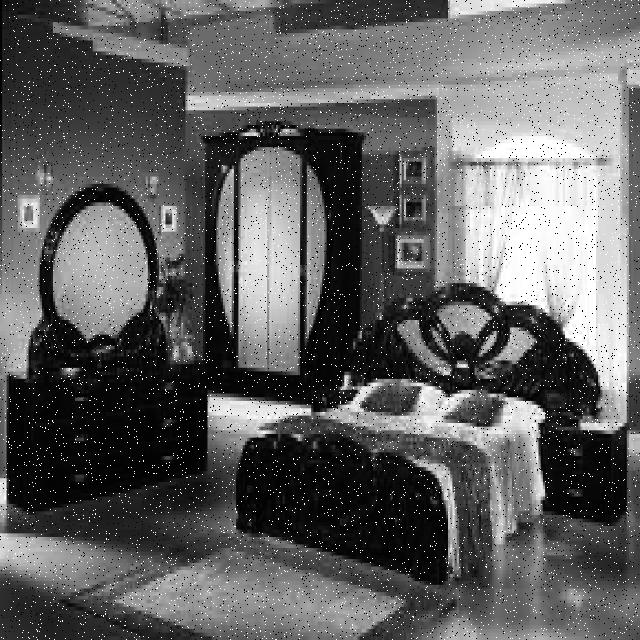bed: (224, 283, 558, 566)
